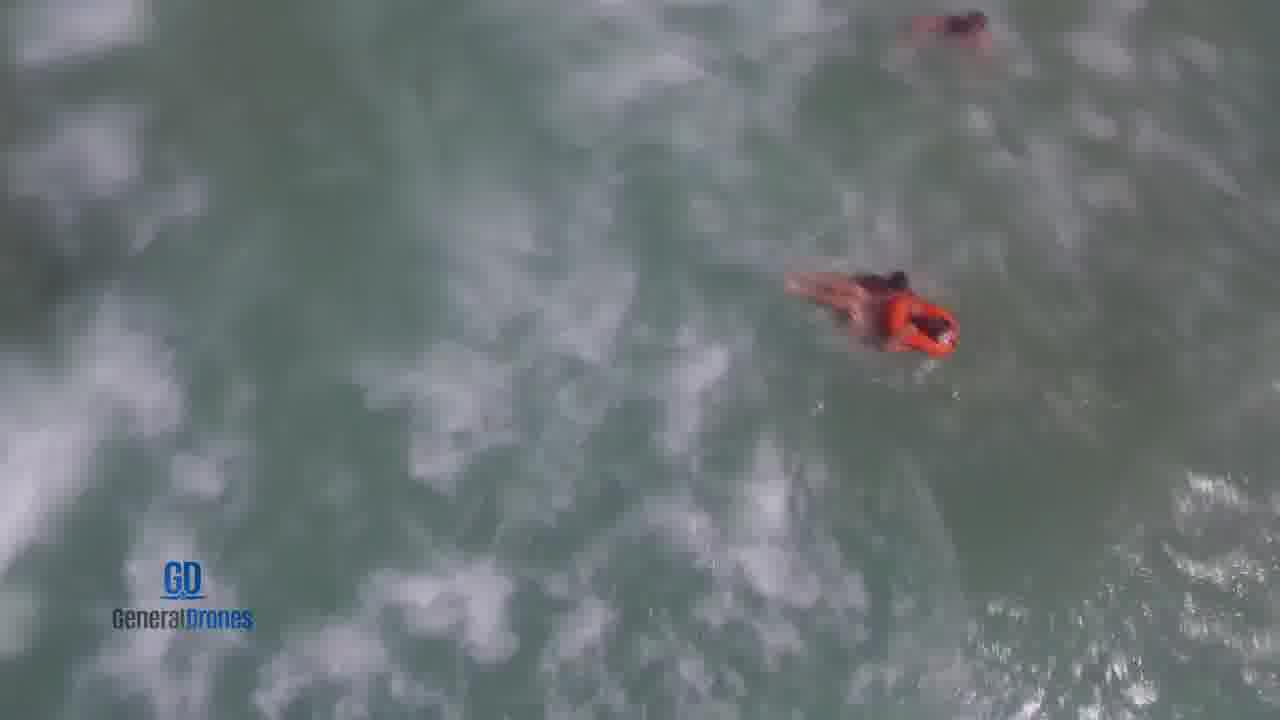swimmer: (771, 248, 958, 351), (910, 0, 1003, 47), (855, 249, 930, 298)
